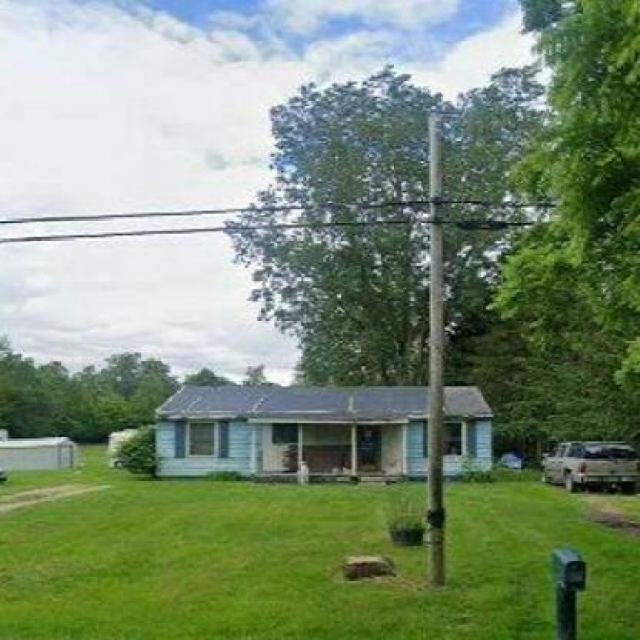pole: (400, 112, 474, 585)
